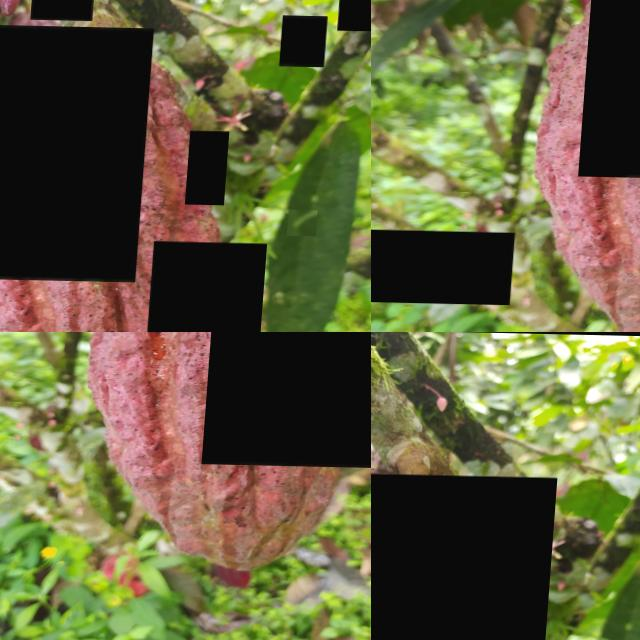Fitoftora: (152, 239, 272, 332)
Monilia: (0, 22, 155, 280)
Sana: (371, 471, 559, 640), (208, 332, 371, 466), (371, 229, 521, 304), (190, 128, 233, 203), (282, 13, 329, 65), (338, 0, 371, 28), (292, 207, 322, 234)
